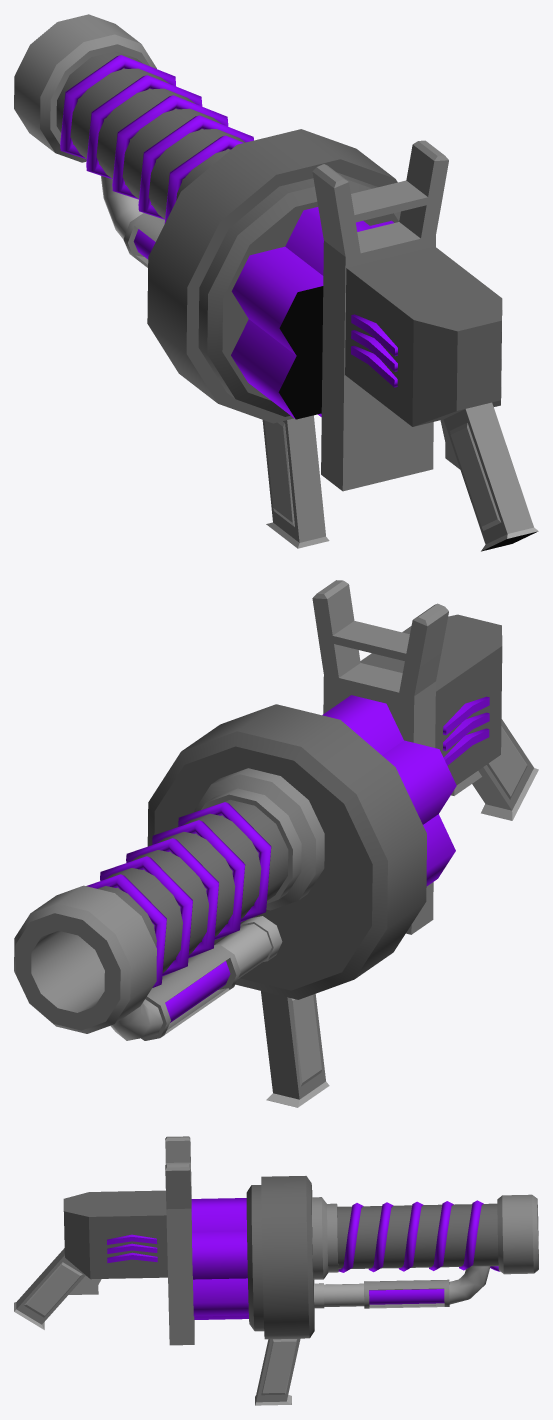
Rendered from launcher.obj.
3 renders of one model, top to bottom at view 1: azimuth 30°, elevation 25°; view 2: azimuth 150°, elevation 25°; view 3: azimuth 270°, elevation 25°, orthographic. The views are drawn at different scales.
Visible parts, largest first — view 1: GranadeLauncher; view 2: GranadeLauncher; view 3: GranadeLauncher.
Boxes of the visible parts, x1,y1,x2,y2 form: GranadeLauncher: (14,14,538,551); GranadeLauncher: (14,580,538,1107); GranadeLauncher: (14,1136,538,1405).
Size of the model in its own units: 0.5971 by 1.03 by 1.97.
1 material, 1 textured.
